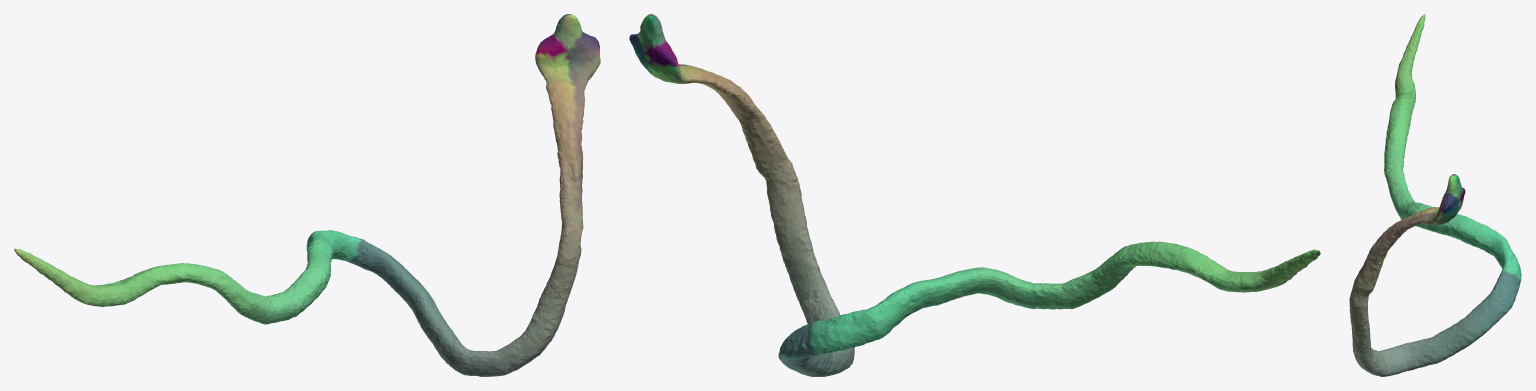
The model's file is snake-5.off.obj.
The picture shows the model from 3 angles, left to right: view 1: azimuth 30°, elevation 25°; view 2: azimuth 150°, elevation 25°; view 3: azimuth 270°, elevation 25°; orthographic projection. The views are drawn at different scales.
Bounding box in the file's own units: 1.37 × 0.6675 × 0.4195.
